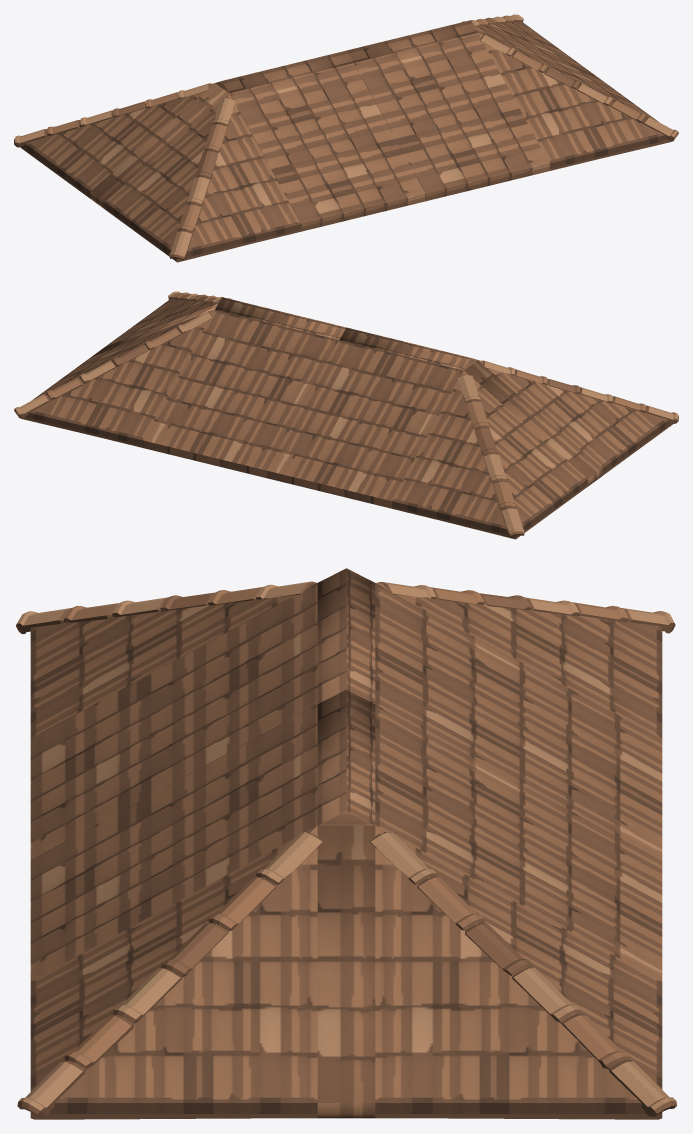
Rendered from SM_Bld_Villa_Roof_02_edit.fbx.
The picture shows the model from 3 angles, top to bottom: view 1: azimuth 30°, elevation 25°; view 2: azimuth 150°, elevation 25°; view 3: azimuth 270°, elevation 25°; orthographic projection. The views are drawn at different scales.
Visible parts, largest first — view 1: SM_Bld_Villa_Roof_Corner_Out_01.003; view 2: SM_Bld_Villa_Roof_Corner_Out_01.003; view 3: SM_Bld_Villa_Roof_Corner_Out_01.003.
Part boxes in pixels (x1,y1,x2,y2): SM_Bld_Villa_Roof_Corner_Out_01.003: (14,14,678,262); SM_Bld_Villa_Roof_Corner_Out_01.003: (14,291,678,539); SM_Bld_Villa_Roof_Corner_Out_01.003: (16,568,676,1119).
Size of the model in its own units: 1026 by 182 by 576.
